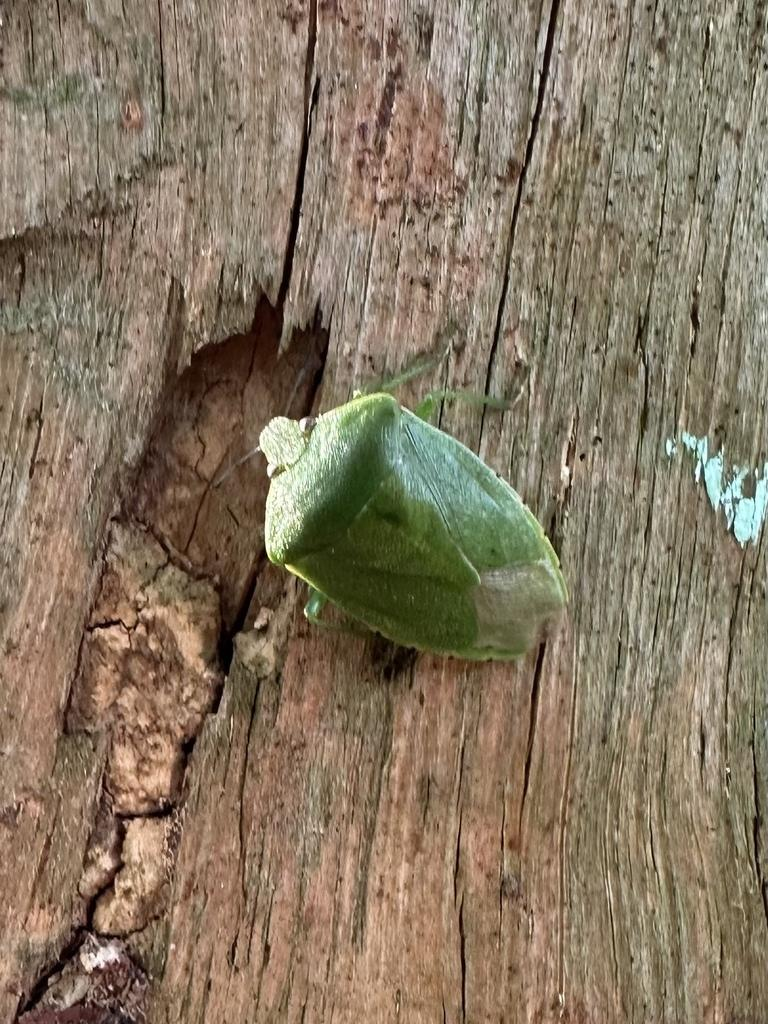stink_bugs: (129, 265, 654, 739)
